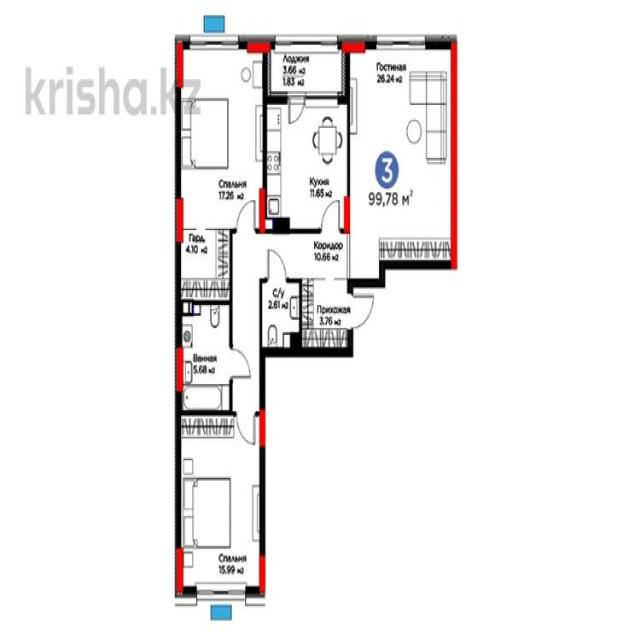balcony: (265, 42, 344, 98)
bathroom: (180, 302, 230, 412), (261, 278, 300, 350)
hallway: (231, 230, 348, 277), (299, 281, 351, 348)
kitchen: (266, 102, 348, 231)
living_room: (348, 46, 456, 262), (180, 45, 263, 228), (182, 414, 262, 591)
other: (179, 232, 231, 302)
